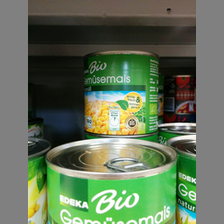corn: (45, 138, 177, 224), (83, 51, 160, 135)
